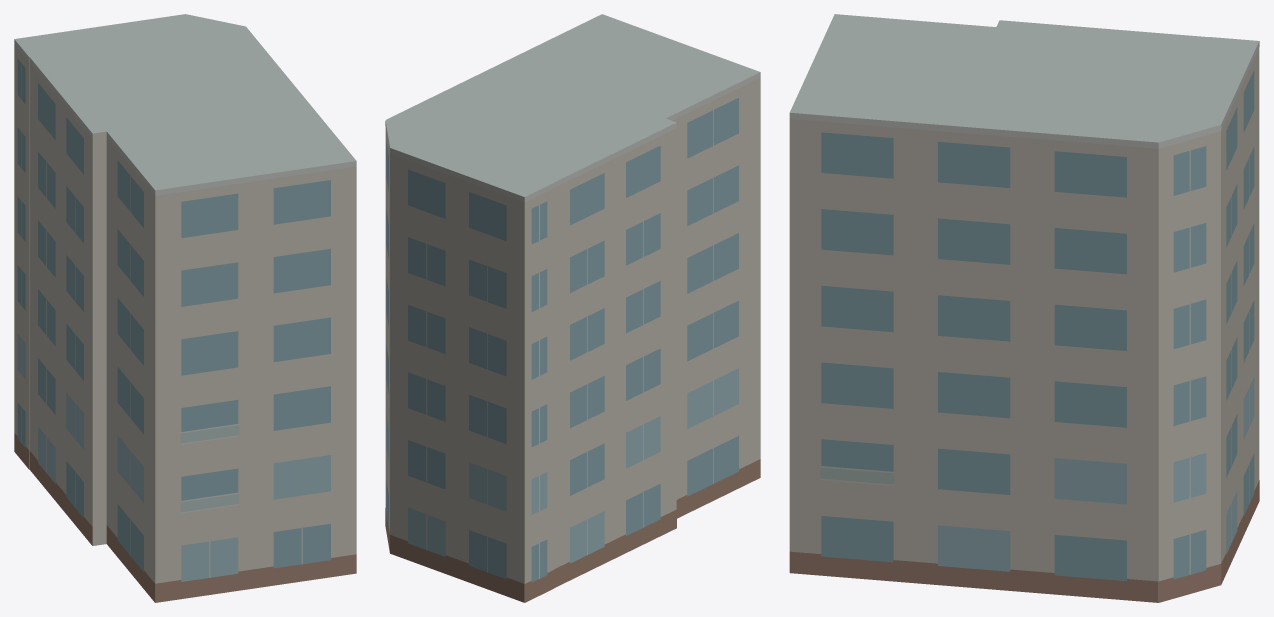
Rendered from survey-upis-32657045.glb.
3 views of the same model, side by side, from view 1: azimuth 30°, elevation 25°; view 2: azimuth 150°, elevation 25°; view 3: azimuth 270°, elevation 25° (orthographic). The views are drawn at different scales.
Parts seen in each view (by area): view 1: survey-upis-32657045.tmp; view 2: survey-upis-32657045.tmp; view 3: survey-upis-32657045.tmp.
Boxes of the visible parts, left/top/right/bottom form: survey-upis-32657045.tmp: left=14, top=14, right=356, bottom=602; survey-upis-32657045.tmp: left=385, top=14, right=760, bottom=602; survey-upis-32657045.tmp: left=789, top=14, right=1259, bottom=602.
Bounding box in the file's own units: 10.85 × 18.1 × 16.75.
